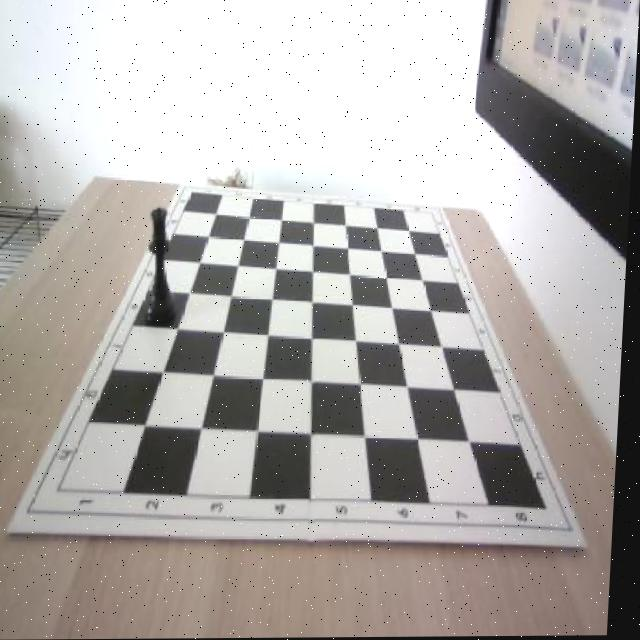black-pawn: (148, 206, 186, 331)
